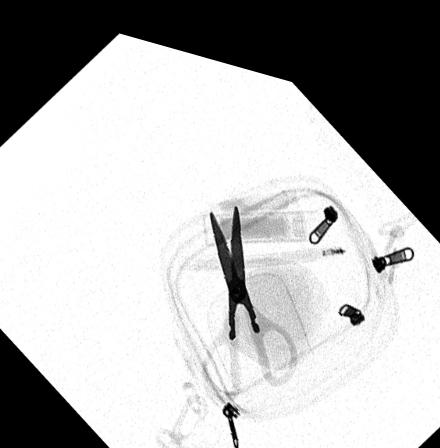Scissors: (192, 186, 303, 392)
